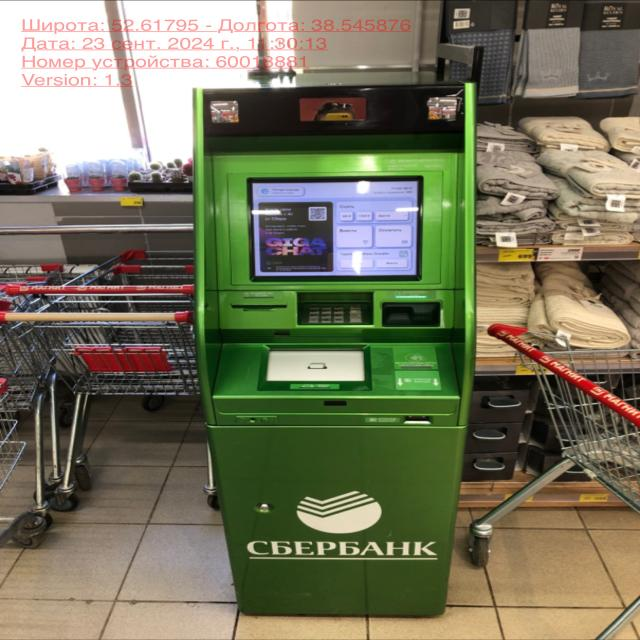bank: (193, 84, 472, 616)
